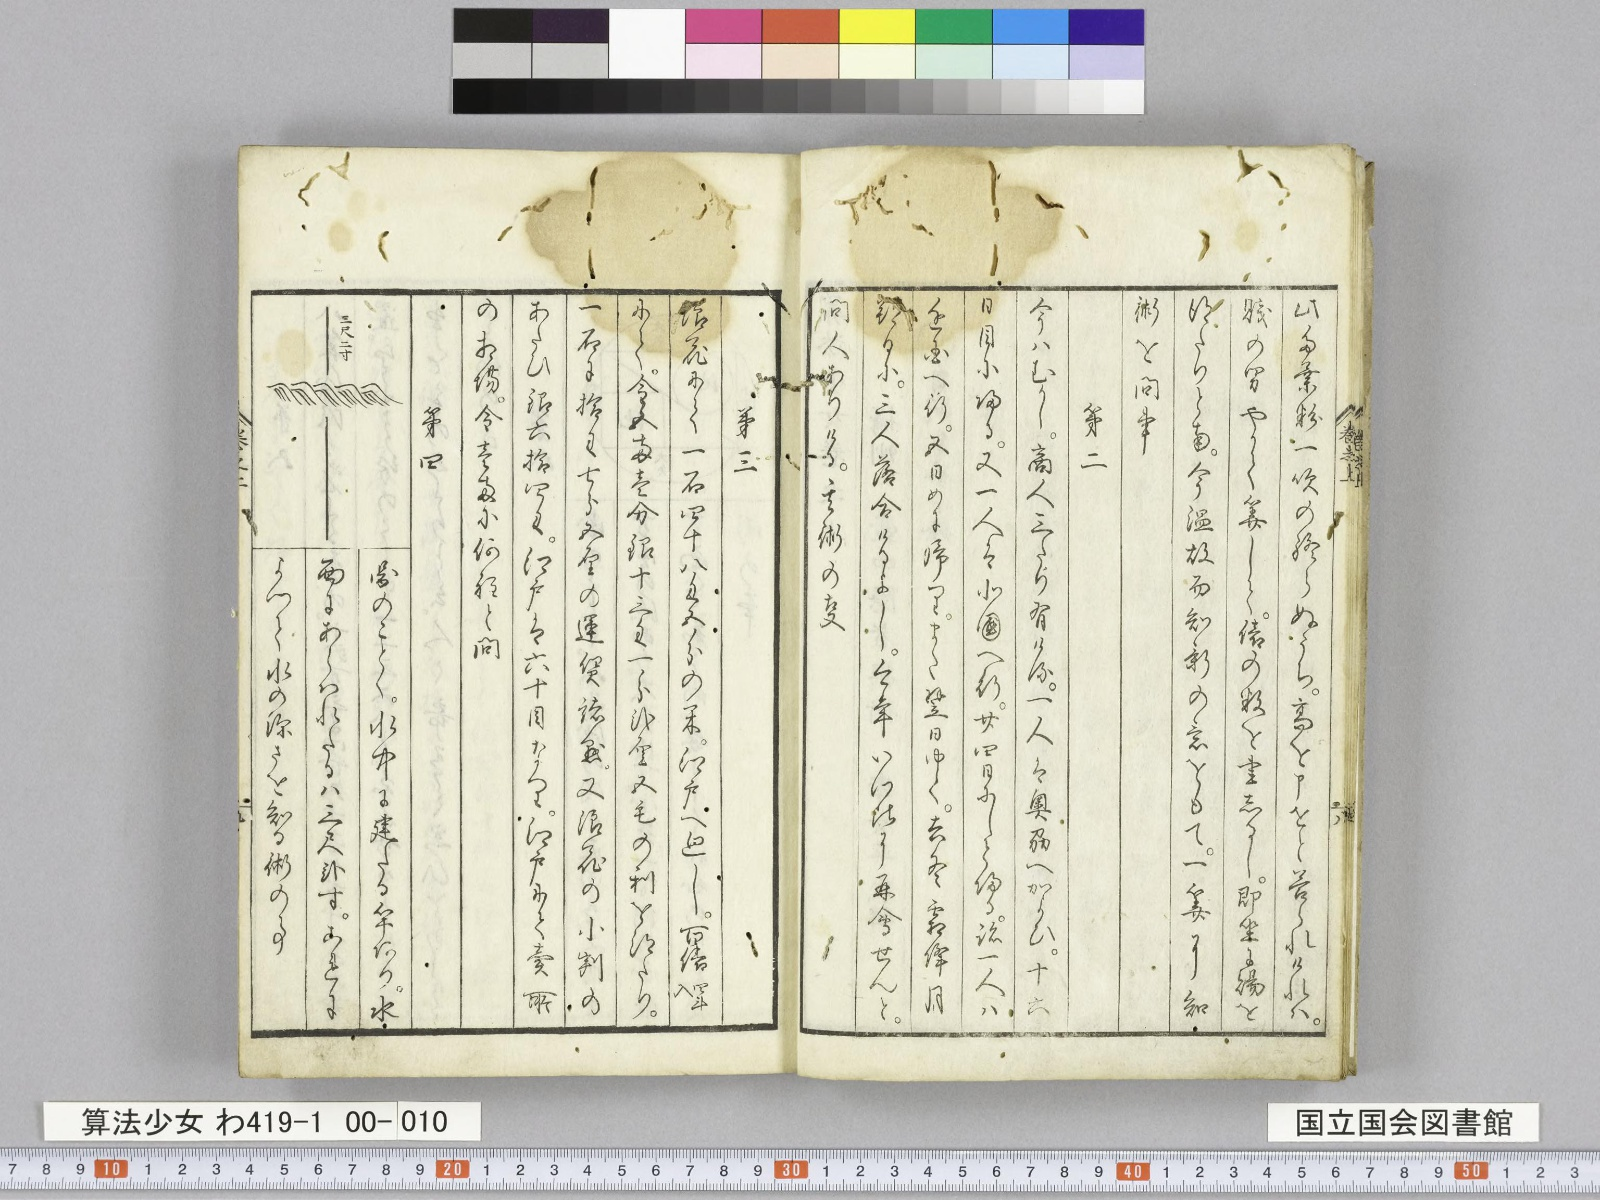1_overall: (241, 142, 1374, 1076)
2_handwritten: (1238, 294, 1267, 1020), (925, 297, 952, 1018), (682, 299, 709, 1012), (1031, 299, 1057, 1020), (1291, 297, 1317, 1025), (978, 297, 1003, 1025), (1184, 294, 1209, 1013), (580, 296, 603, 1015), (632, 301, 656, 1018), (873, 297, 896, 1022), (528, 301, 551, 1018), (372, 562, 401, 1024), (320, 563, 346, 1020), (268, 555, 296, 954), (475, 303, 499, 666), (820, 301, 847, 626), (1135, 296, 1160, 453), (1080, 405, 1107, 476), (420, 400, 443, 476), (734, 408, 761, 476)
4_illustration: (265, 299, 399, 543)
